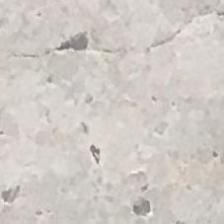Crack: (18, 3, 224, 77)
Non_Crack: (151, 87, 224, 224)
